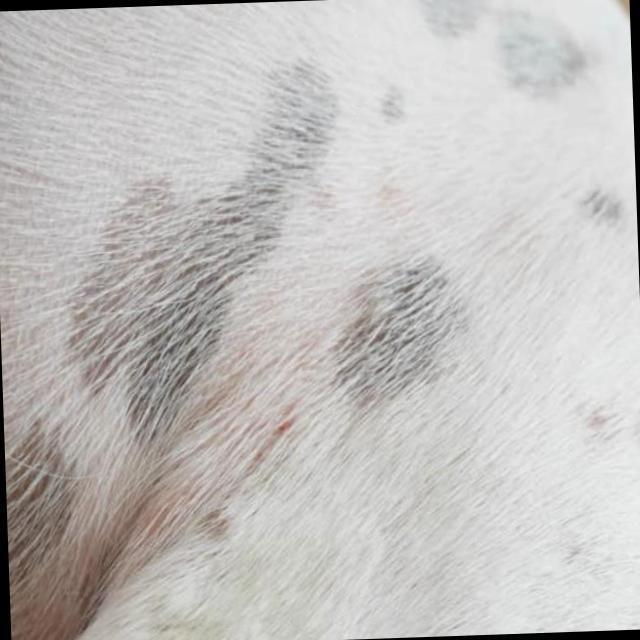allergic dermatitis: (0, 369, 211, 640)
